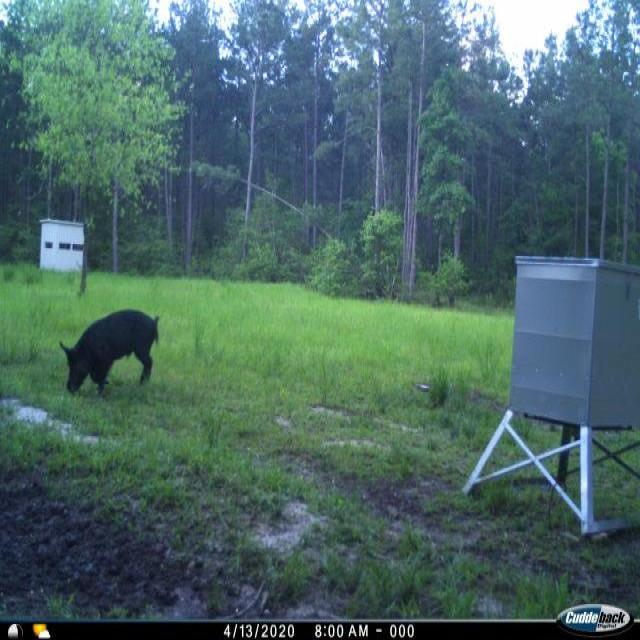deer: (56, 303, 167, 406)
